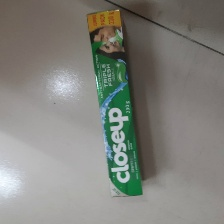CloseUp Xanh: (85, 8, 144, 200)
